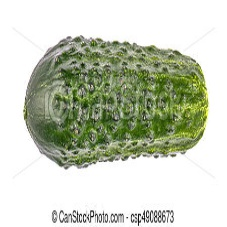cucumber: (25, 35, 210, 170)
